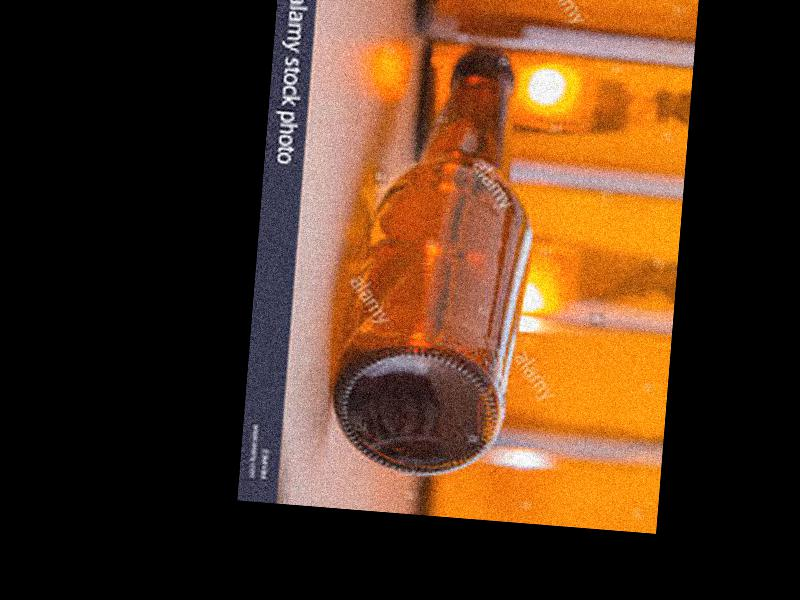Beer: (318, 44, 548, 484)
